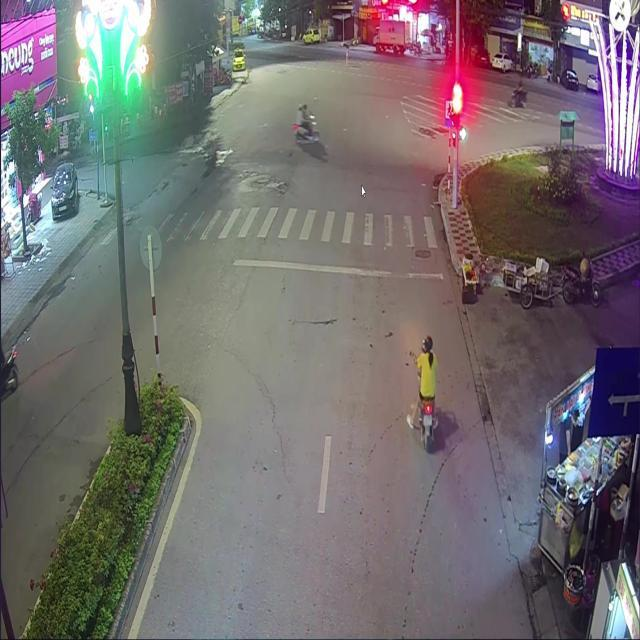motobike: (421, 400, 433, 451)
red_light: (452, 97, 459, 127)
stop_line: (231, 258, 442, 280)
